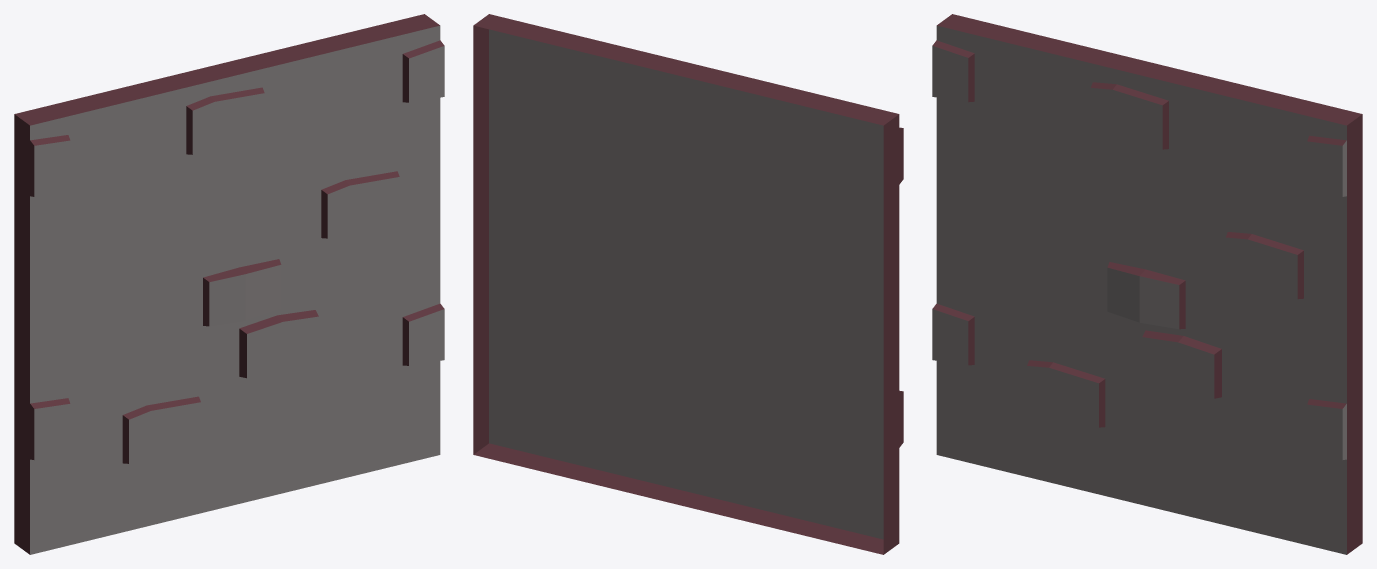
File: wall-stone-3x3-c.fbx
The picture shows the model from 3 angles, left to right: view 1: azimuth 30°, elevation 25°; view 2: azimuth 150°, elevation 25°; view 3: azimuth 330°, elevation 25°; orthographic projection.
Visible parts, largest first — view 1: wall-stone-3x3-c; view 2: wall-stone-3x3-c; view 3: wall-stone-3x3-c.
Boxes of the visible parts, box(x1,y1,x2,y2) form: wall-stone-3x3-c: box(14, 14, 444, 554); wall-stone-3x3-c: box(473, 14, 903, 554); wall-stone-3x3-c: box(932, 14, 1362, 554).
Bounding box in the file's own units: 3 × 3 × 0.2788.
